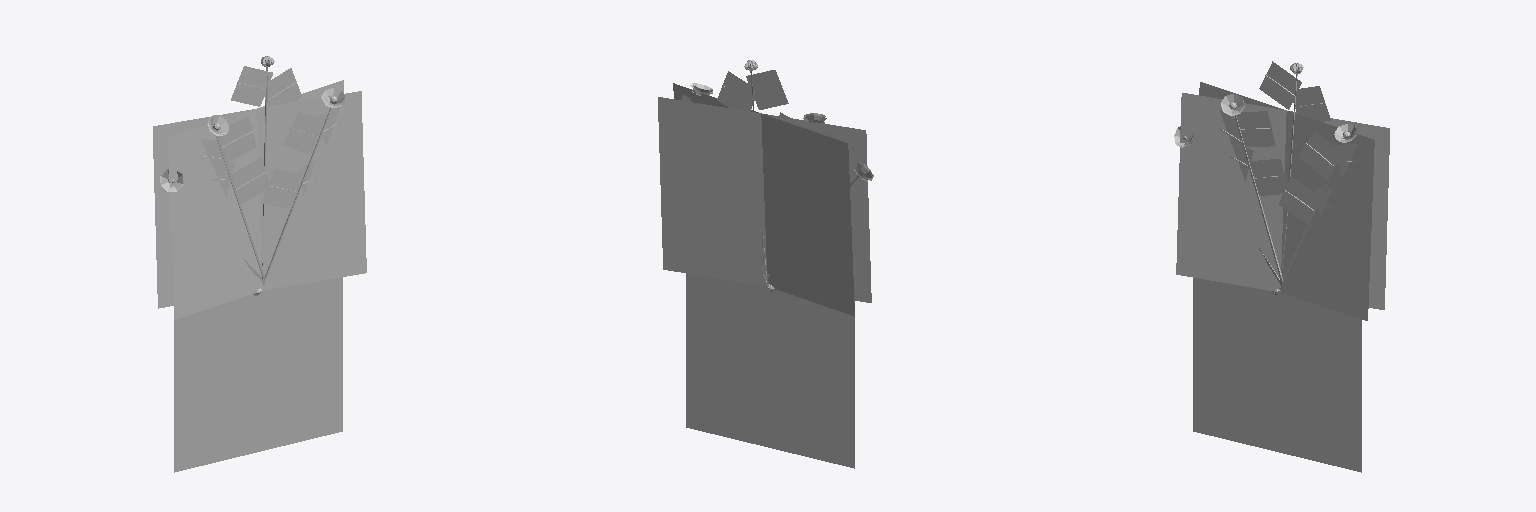
Rendered from MODEL_ranunculusCHALLENGE_G4_1.obj.
The picture shows the model from 3 angles: view 1: azimuth 30°, elevation 25°; view 2: azimuth 150°, elevation 25°; view 3: azimuth 330°, elevation 25°; orthographic projection.
Parts seen in each view (by area): view 1: geo_plant_low1 geo_roots_plane, geo_plant_low1 geo_roots_plane3, geo_plant_low1 geo_roots_plane2, geo_plant_low1, geo_plant_low1 leaf_plain1 leaf_platform8, geo_plant_low1 leaf_platform4 leaf_plain, geo_plant_low1 leaf_plain1 leaf_platform7, geo_plant_low1 leaf_platform9 leaf_plain1, geo_plant_low1 leaf_platform3 leaf_plain, geo_plant_low1 leaf_platform leaf_plain; view 2: geo_plant_low1 geo_roots_plane, geo_plant_low1 geo_roots_plane2, geo_plant_low1 geo_roots_plane3, geo_plant_low1 leaf_platform9 leaf_plain1, geo_plant_low1 leaf_platform leaf_plain; view 3: geo_plant_low1 geo_roots_plane, geo_plant_low1 geo_roots_plane2, geo_plant_low1 geo_roots_plane3, geo_plant_low1 leaf_platform3 leaf_plain, geo_plant_low1, geo_plant_low1 leaf_platform4 leaf_plain, geo_plant_low1 leaf_plain1 leaf_platform8, geo_plant_low1 leaf_platform9 leaf_plain1, geo_plant_low1 leaf_plain1 leaf_platform7, geo_plant_low1 leaf_platform leaf_plain.
Boxes of the visible parts, x1,y1,x2,y2 form: geo_plant_low1 geo_roots_plane: [174, 273, 342, 472]; geo_plant_low1 geo_roots_plane3: [153, 91, 366, 308]; geo_plant_low1 geo_roots_plane2: [168, 80, 343, 319]; geo_plant_low1: [216, 66, 331, 295]; geo_plant_low1 leaf_plain1 leaf_platform8: [262, 169, 300, 208]; geo_plant_low1 leaf_platform4 leaf_plain: [231, 157, 268, 203]; geo_plant_low1 leaf_plain1 leaf_platform7: [283, 112, 321, 154]; geo_plant_low1 leaf_platform9 leaf_plain1: [231, 66, 272, 106]; geo_plant_low1 leaf_platform3 leaf_plain: [218, 116, 256, 161]; geo_plant_low1 leaf_platform leaf_plain: [261, 68, 301, 106]; geo_plant_low1 geo_roots_plane: [686, 273, 854, 468]; geo_plant_low1 geo_roots_plane2: [658, 97, 871, 302]; geo_plant_low1 geo_roots_plane3: [673, 83, 854, 316]; geo_plant_low1 leaf_platform9 leaf_plain1: [746, 70, 788, 109]; geo_plant_low1 leaf_platform leaf_plain: [717, 71, 758, 111]; geo_plant_low1 geo_roots_plane: [1193, 275, 1361, 472]; geo_plant_low1 geo_roots_plane2: [1176, 93, 1389, 309]; geo_plant_low1 geo_roots_plane3: [1199, 82, 1374, 320]; geo_plant_low1 leaf_platform3 leaf_plain: [1237, 111, 1275, 146]; geo_plant_low1: [1235, 74, 1346, 294]; geo_plant_low1 leaf_platform4 leaf_plain: [1249, 159, 1286, 195]; geo_plant_low1 leaf_plain1 leaf_platform8: [1279, 176, 1317, 223]; geo_plant_low1 leaf_platform9 leaf_plain1: [1259, 61, 1301, 109]; geo_plant_low1 leaf_plain1 leaf_platform7: [1299, 131, 1336, 179]; geo_plant_low1 leaf_platform leaf_plain: [1289, 86, 1330, 121].
Size of the model in its own units: 24.36 by 45.11 by 4.89.